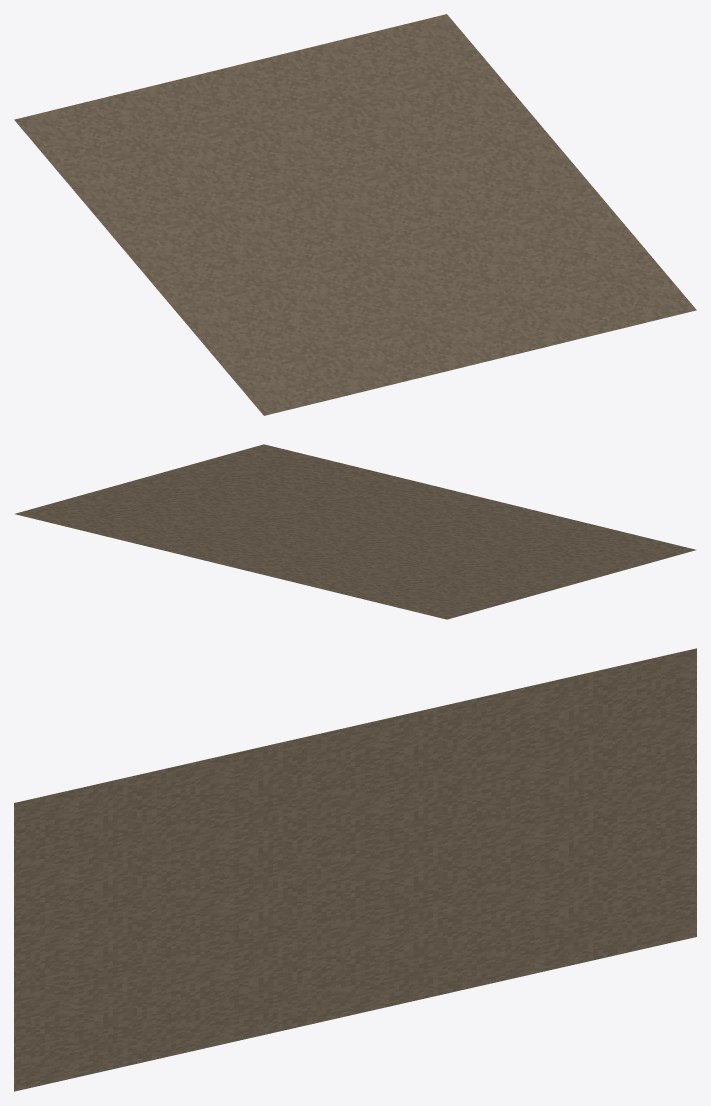
3 views of the same model, one above another, from view 1: azimuth 30°, elevation 25°; view 2: azimuth 150°, elevation 25°; view 3: azimuth 270°, elevation 25° (orthographic). The views are drawn at different scales.
Visible parts, largest first — view 1: ST2-T06_Mesh; view 2: ST2-T06_Mesh; view 3: ST2-T06_Mesh.
Part boxes in pixels (box(x1,y1,x2,y2)): ST2-T06_Mesh: box(14, 14, 696, 415); ST2-T06_Mesh: box(15, 444, 695, 619); ST2-T06_Mesh: box(14, 648, 696, 1091).
Size of the model in its own units: 8 by 2 by 8.
